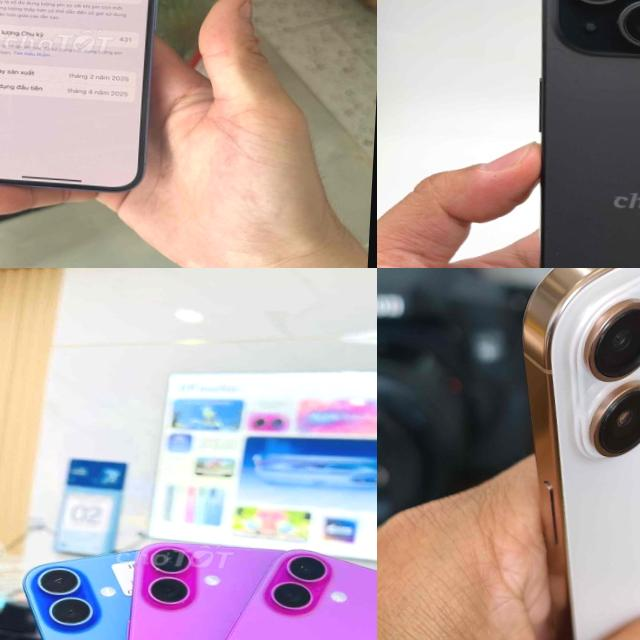scratch: (619, 1, 640, 50)
